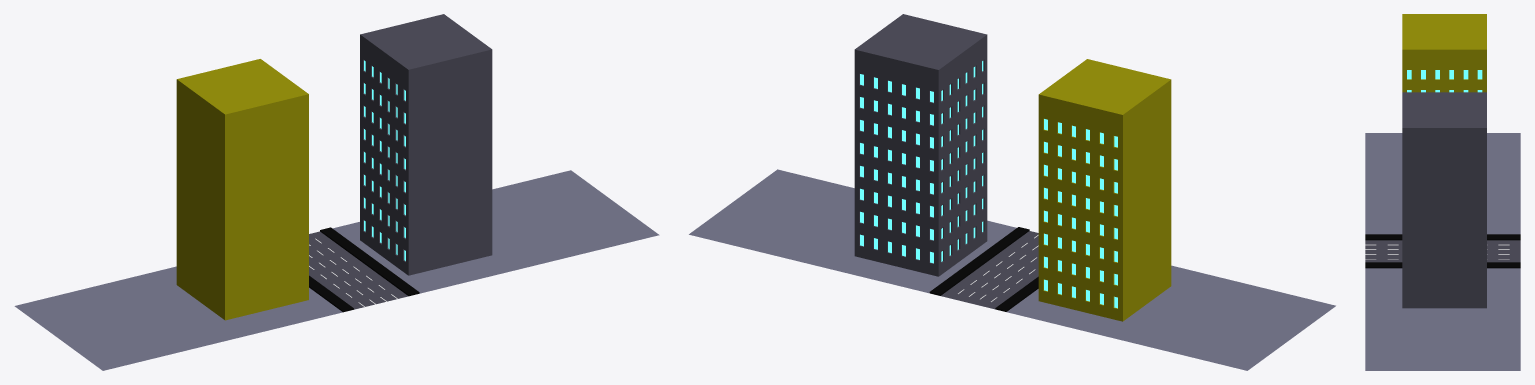
Rendered from Road5.fbx.
The picture shows the model from 3 angles, left to right: view 1: azimuth 30°, elevation 25°; view 2: azimuth 150°, elevation 25°; view 3: azimuth 270°, elevation 25°; orthographic projection. The views are drawn at different scales.
Visible parts, largest first — view 1: Building.002, Building.001, Ground, Road; view 2: Building.001, Building.002, Ground, Road; view 3: Ground, Building.002, Building.001, Road.
Boxes of the visible parts, x1,y1,x2,y2 form: Building.002: [360, 14, 492, 275]; Building.001: [176, 59, 308, 320]; Ground: [14, 170, 659, 370]; Road: [309, 227, 419, 312]; Building.001: [1038, 59, 1171, 321]; Building.002: [854, 14, 987, 276]; Ground: [689, 169, 1335, 370]; Road: [929, 227, 1038, 311]; Ground: [1365, 133, 1520, 370]; Building.002: [1402, 92, 1486, 308]; Building.001: [1402, 14, 1486, 92]; Road: [1365, 234, 1520, 268].
Size of the model in its own units: 19151 by 6769 by 5285.
